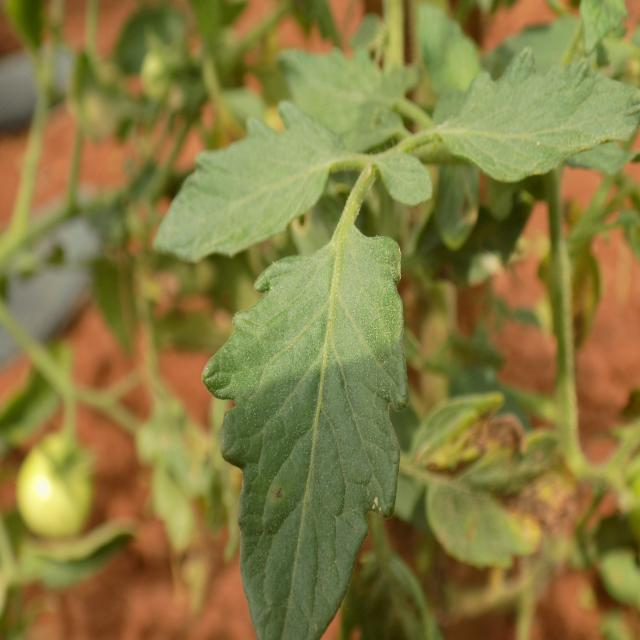tomato_early blight: (419, 380, 605, 574)
tomato_healthy: (202, 222, 412, 640), (146, 102, 346, 260), (429, 50, 640, 190)
